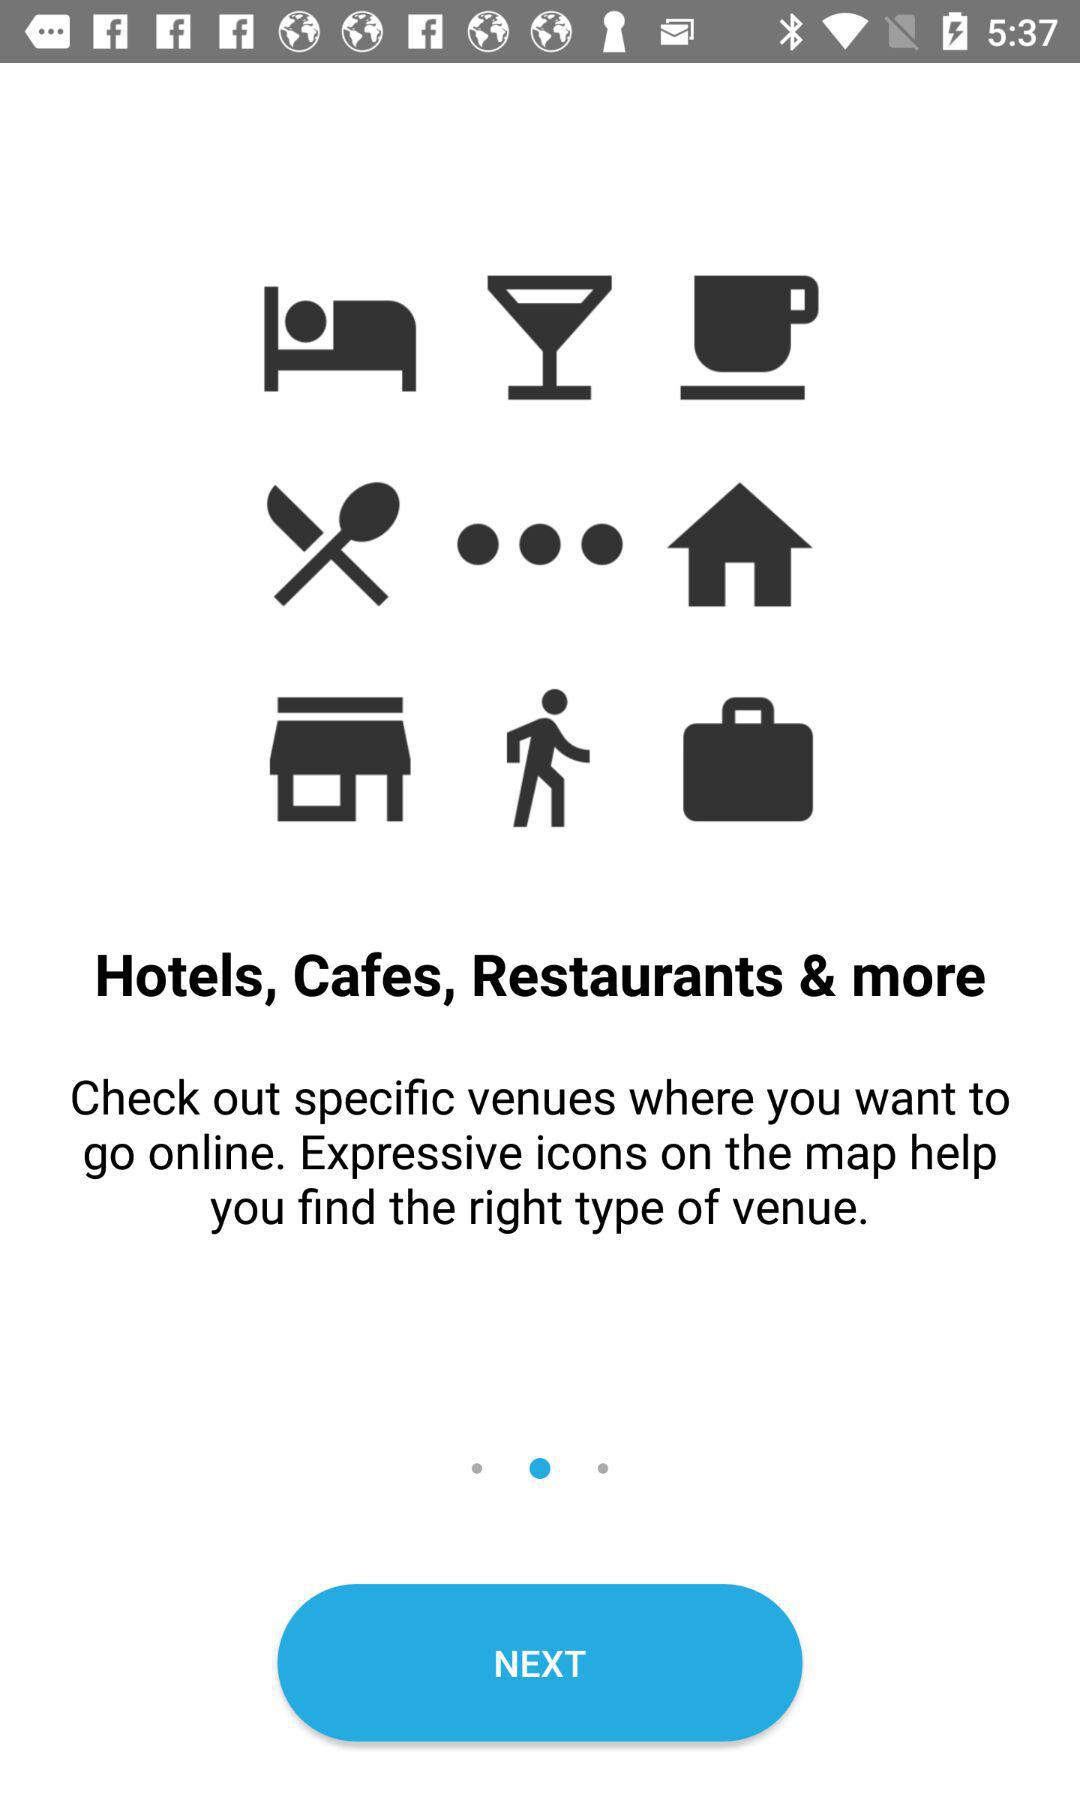Image: (263, 273, 822, 830)
PageIndicator: (471, 1456, 610, 1481)
Text: (70, 1076, 1012, 1237), (95, 951, 988, 1008)
TextButton: (278, 1584, 805, 1743)
UpperTaskBar: (1, 1, 1080, 64)
